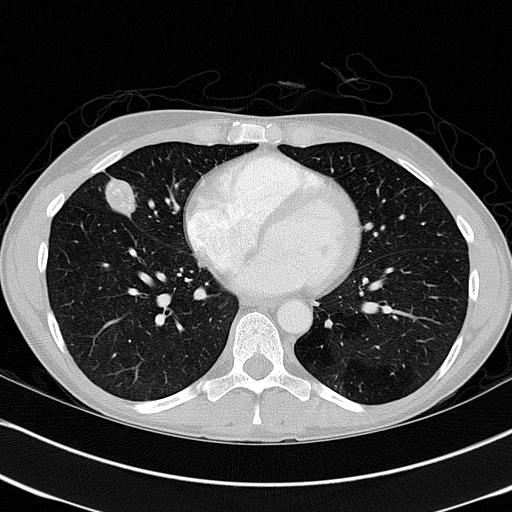nodule: (99, 173, 142, 216)
